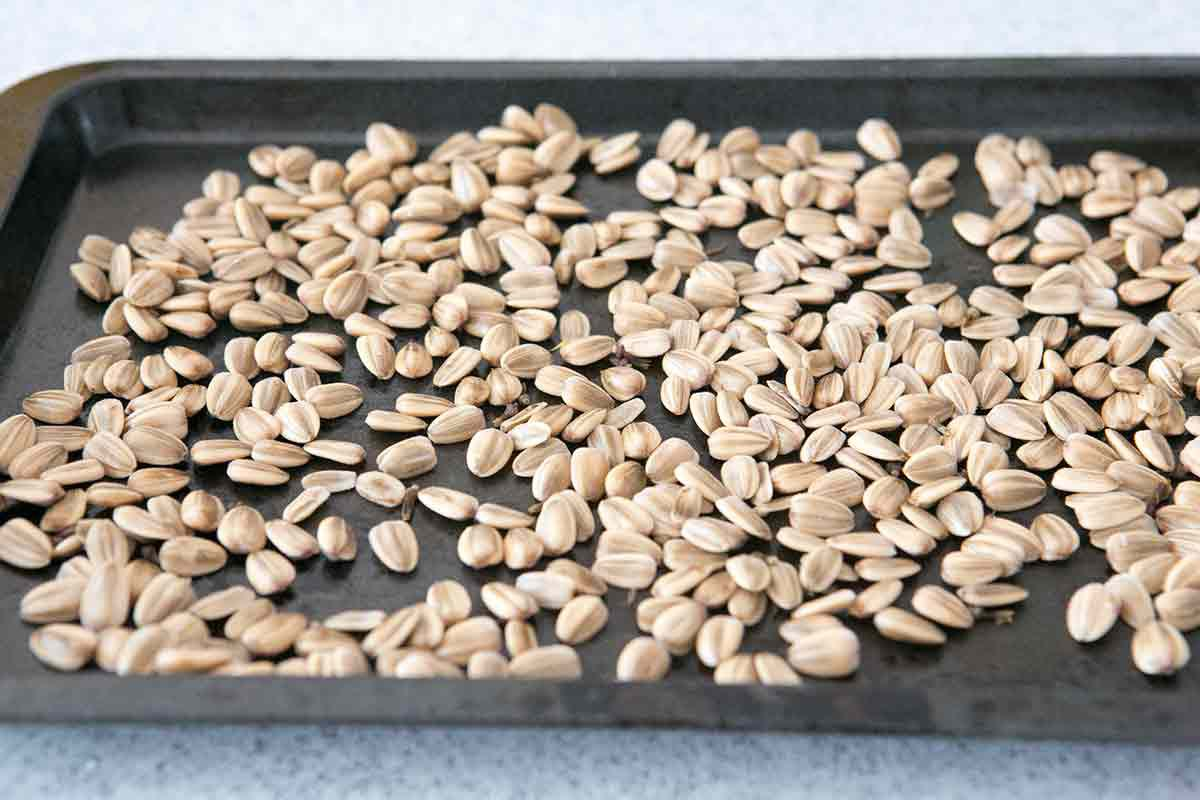seed: (1, 117, 1200, 688)
